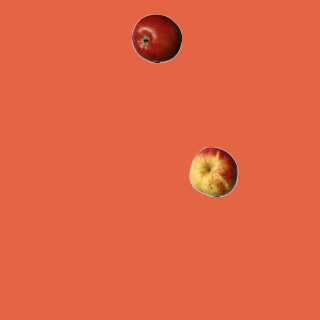Apple Braeburn: (131, 13, 181, 63)
Apple Red Yellow 1: (188, 146, 238, 196)
